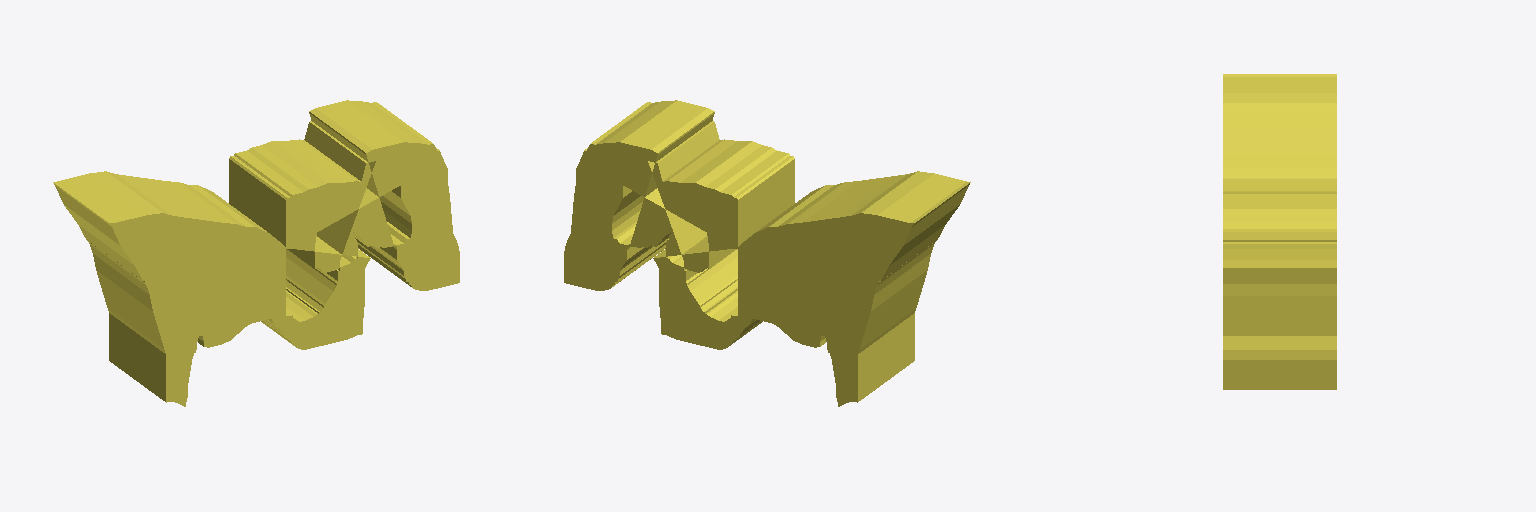
3 views of the same model, side by side, from view 1: azimuth 30°, elevation 25°; view 2: azimuth 150°, elevation 25°; view 3: azimuth 270°, elevation 25° (orthographic).
Visible parts, largest first — view 1: first; view 2: first; view 3: first.
Boxes of the visible parts, <box> form: first: <box>53,100,459,406</box>; first: <box>564,100,970,406</box>; first: <box>1223,74,1336,389</box>.
Bounding box in the file's own units: 0.8855 × 0.5097 × 0.25.